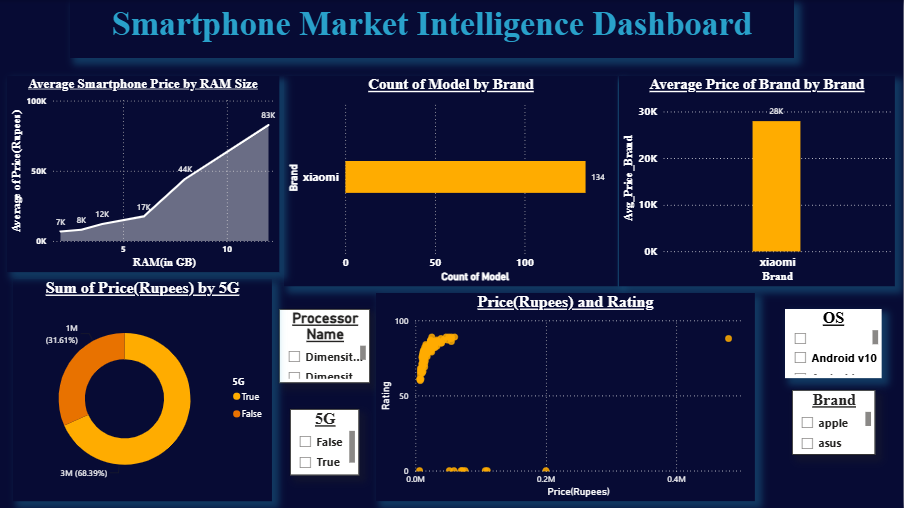

What the dashboard file says about the page in this screenshot:
{"tool":"powerbi","page":{"name":"Page 1","canvas":[1280,720],"ordinal":0},"visuals":[{"type":"slicer","title":"Brand","fields":{"Values":["Smartphone Dataset.Brand"]},"box":[1123.9,552.8,117.6,92.1],"z":0},{"type":"slicer","title":"OS","fields":{"Values":["Smartphone Dataset.OS"]},"box":[1114,438,137.5,97.8],"z":1000},{"type":"slicer","title":"5G","fields":{"Values":["Smartphone Dataset.5G"]},"box":[412.4,579.7,97.8,93.5],"z":2000},{"type":"slicer","title":"Processor Name","fields":{"Values":["Smartphone Dataset.Processor_name"]},"box":[396.9,438,129,104.9],"z":3000},{"type":"donutChart","fields":{"Category":["Smartphone Dataset.5G"],"Y":["Sum(Smartphone Dataset.Price(Rupees))"]},"box":[19.8,395.4,367.1,314.6],"z":4000},{"type":"clusteredBarChart","fields":{"Y":["CountNonNull(Smartphone Dataset.Model)"],"Category":["Smartphone Dataset.Brand"]},"box":[403.9,107.7,473.4,297.6],"z":5000},{"type":"clusteredColumnChart","title":"Average Price of Brand by Brand","fields":{"Category":["Smartphone Dataset.Brand"],"Y":["Smartphone Dataset.Avg_Price_Brand"]},"box":[878.7,107.7,391.2,297.6],"z":6000},{"type":"scatterChart","fields":{"X":["Smartphone Dataset.Price(Rupees)"],"Y":["Smartphone Dataset.Rating"]},"box":[534.3,415.3,537.2,294.8],"z":7000},{"type":"areaChart","title":"Average Smartphone Price by RAM Size","fields":{"Y":["Avg(Smartphone Dataset.Price(Rupees))"],"Category":["Smartphone Dataset.RAM(in GB)"]},"box":[11.3,107.7,385.5,277.8],"z":8000},{"type":"textbox","box":[100.6,0,1026.1,82.2],"z":9000}]}

Visuals, with their boxes in screenshot pixels (x1, y1, x2, y2), scaled from the page's 1280x720 canvas onto the 904x508 screenshot:
"Brand" slicer: 794/390/877/455
"OS" slicer: 787/309/884/378
"5G" slicer: 291/409/360/475
"Processor Name" slicer: 280/309/371/383
donutChart - Smartphone Dataset.5G x Sum(Smartphone Dataset.Price(Rupees)): 14/279/273/501
clusteredBarChart - CountNonNull(Smartphone Dataset.Model) x Smartphone Dataset.Brand: 285/76/620/286
"Average Price of Brand by Brand" clusteredColumnChart: 621/76/897/286
scatterChart - Smartphone Dataset.Price(Rupees) x Smartphone Dataset.Rating: 377/293/757/501
"Average Smartphone Price by RAM Size" areaChart: 8/76/280/272
textbox: 71/0/796/58
